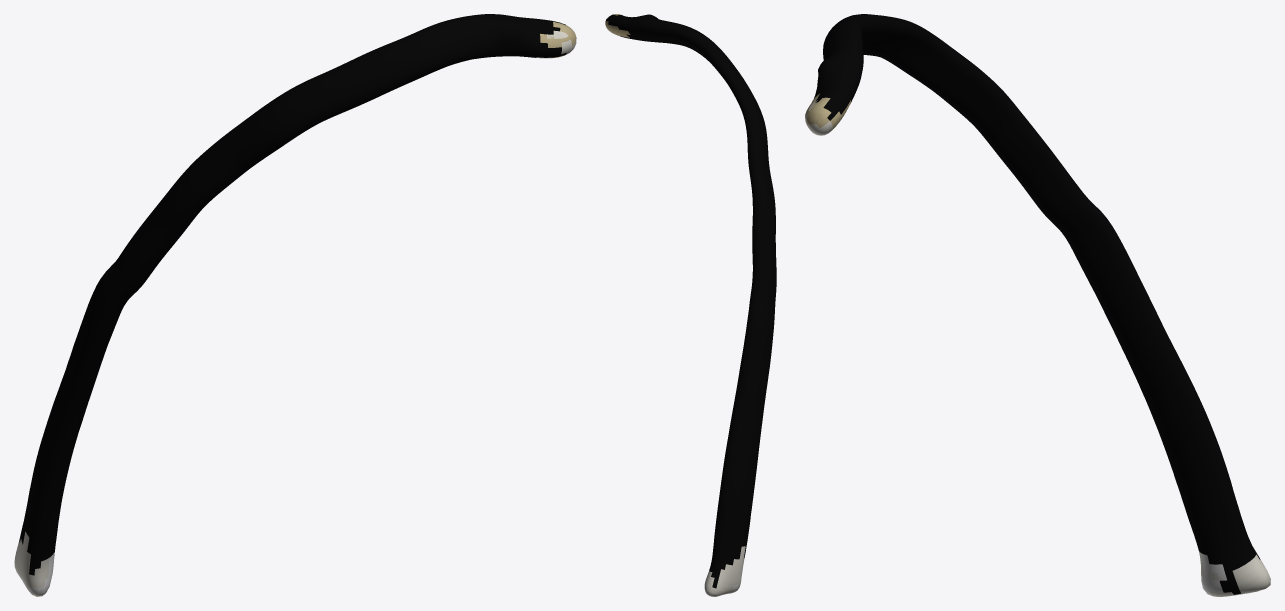
The model's file is Rib R09.fbx.
The picture shows the model from 3 angles, left to right: view 1: azimuth 30°, elevation 25°; view 2: azimuth 150°, elevation 25°; view 3: azimuth 270°, elevation 25°; orthographic projection. The views are drawn at different scales.
Parts seen in each view (by area): view 1: Rib R09; view 2: Rib R09; view 3: Rib R09.
Part boxes in pixels (x1=…): Rib R09: x1=14, y1=14, x2=576, y2=596; Rib R09: x1=605, y1=14, x2=776, y2=596; Rib R09: x1=805, y1=14, x2=1270, y2=596.
Bounding box in the file's own units: 15.36 × 25 × 15.14.
